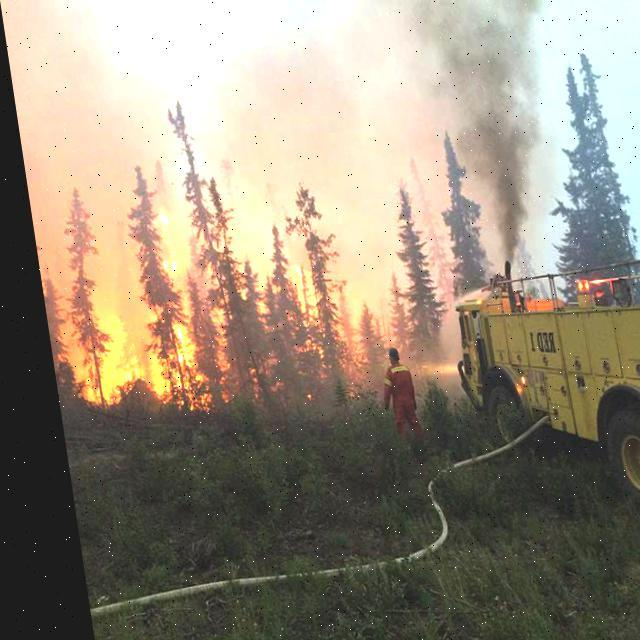Fire: (54, 195, 225, 417), (264, 257, 341, 358)
